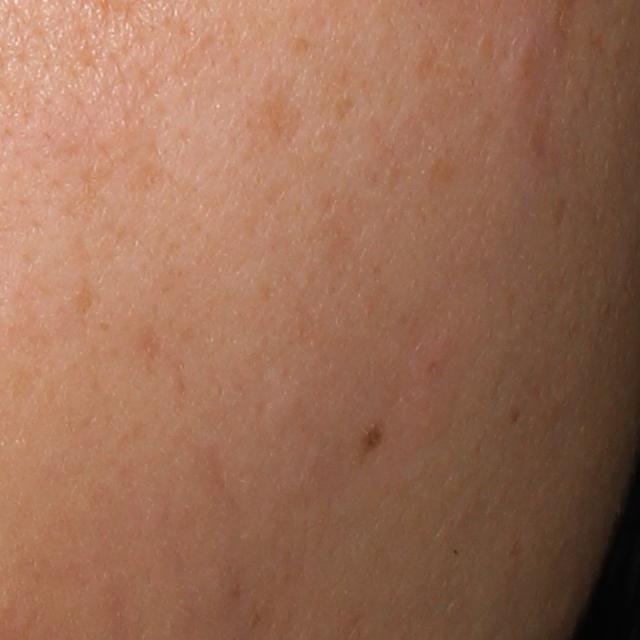nevus: (359, 422, 387, 457)
